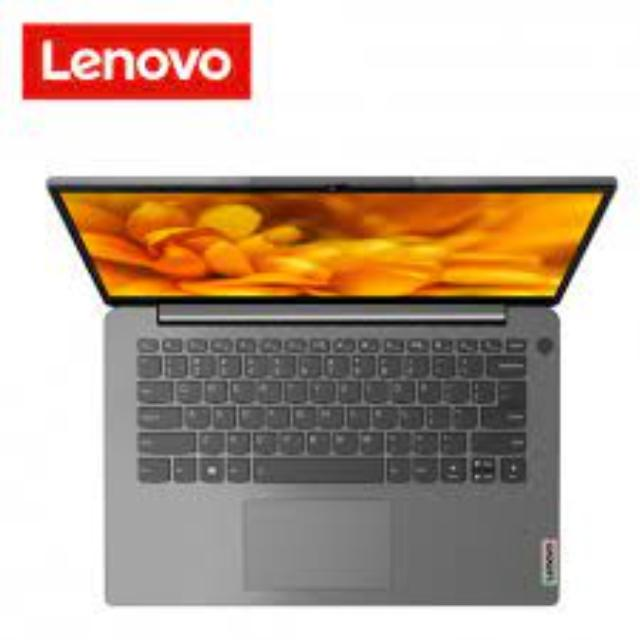Laptop: (40, 171, 604, 621)
